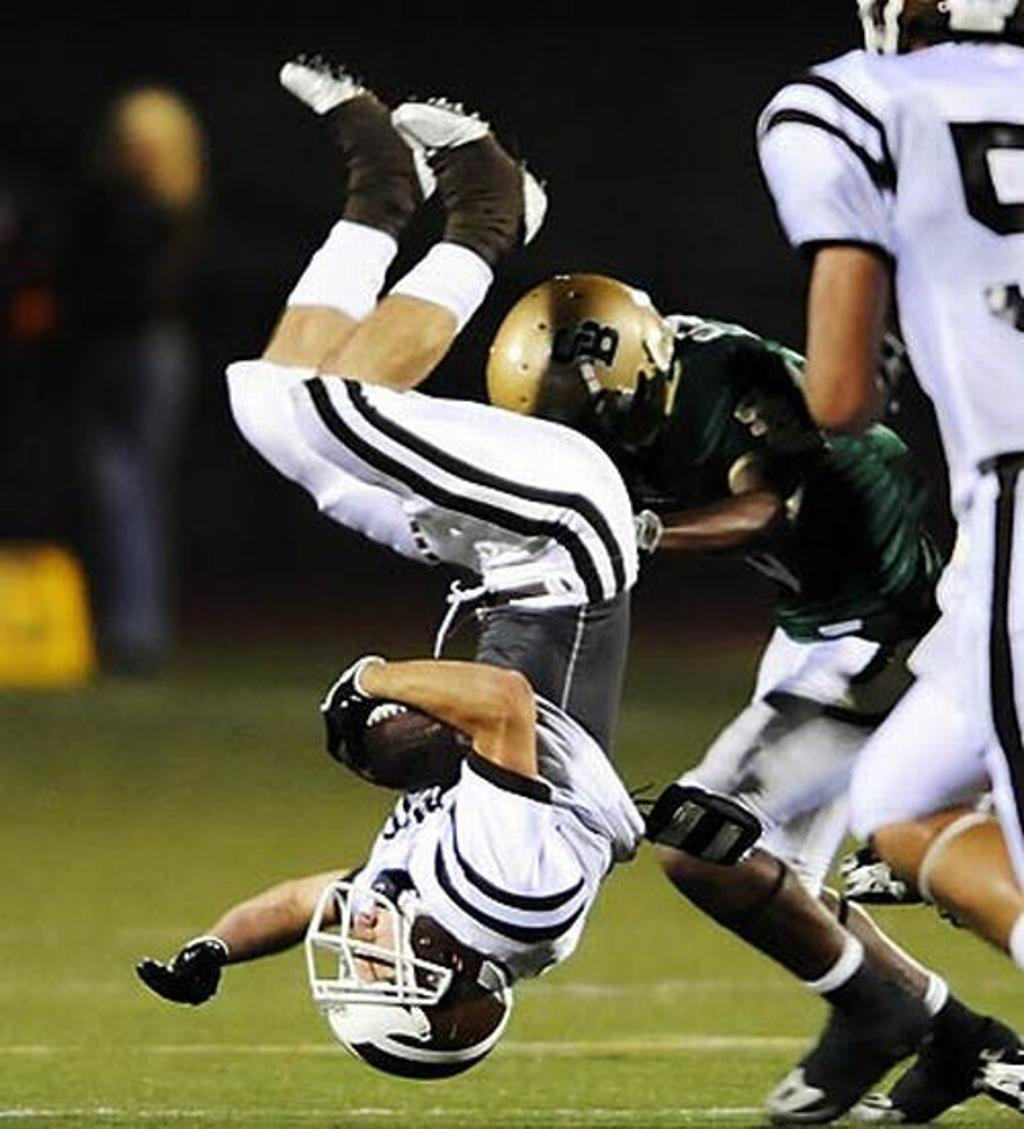face: (338, 882, 422, 1030)
